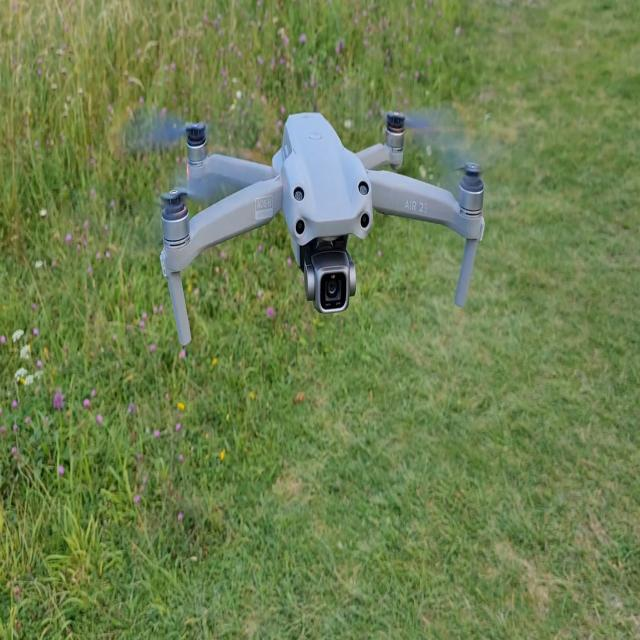drone: (157, 108, 486, 348)
